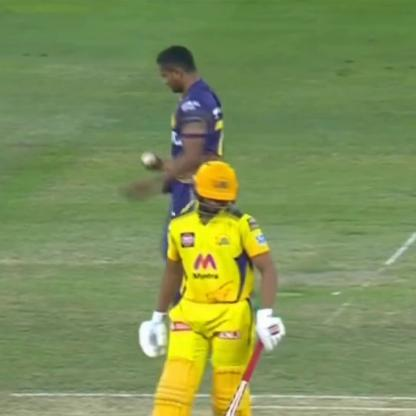ball: (139, 148, 157, 168)
